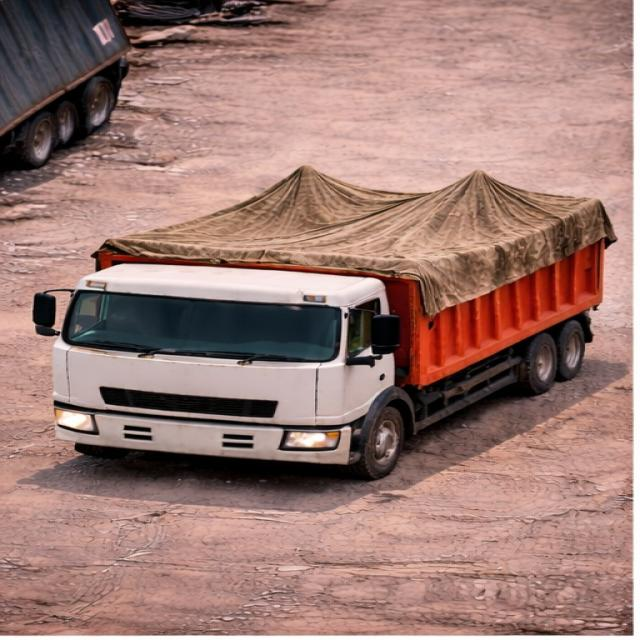trailer: (136, 165, 598, 254)
truck: (30, 130, 620, 467)
